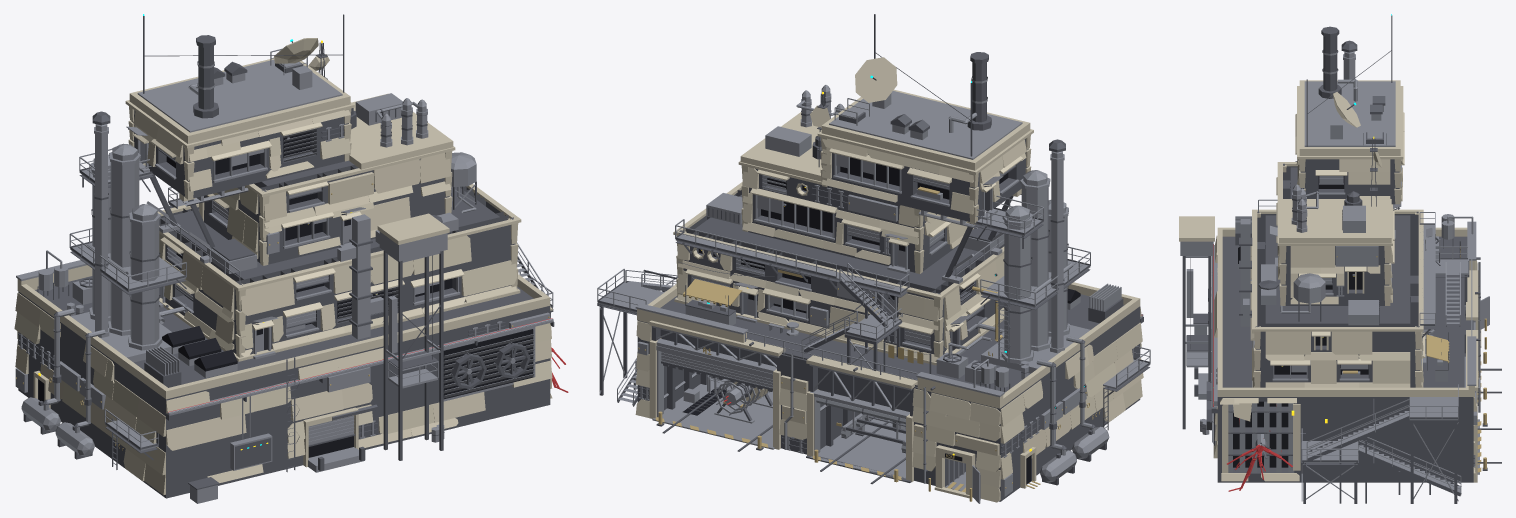
Rendered from habitation_workshop.glb.
3 views of the same model, side by side, from view 1: azimuth 30°, elevation 25°; view 2: azimuth 150°, elevation 25°; view 3: azimuth 270°, elevation 25° (orthographic). The views are drawn at different scales.
Parts seen in each view (by area): view 1: habitation_workshop; view 2: habitation_workshop; view 3: habitation_workshop.
Part boxes in pixels (<box>): habitation_workshop: <box>14,14,568,503</box>; habitation_workshop: <box>597,14,1150,503</box>; habitation_workshop: <box>1179,14,1501,503</box>.
Size of the model in its own units: 36.25 by 29.35 by 25.2.
